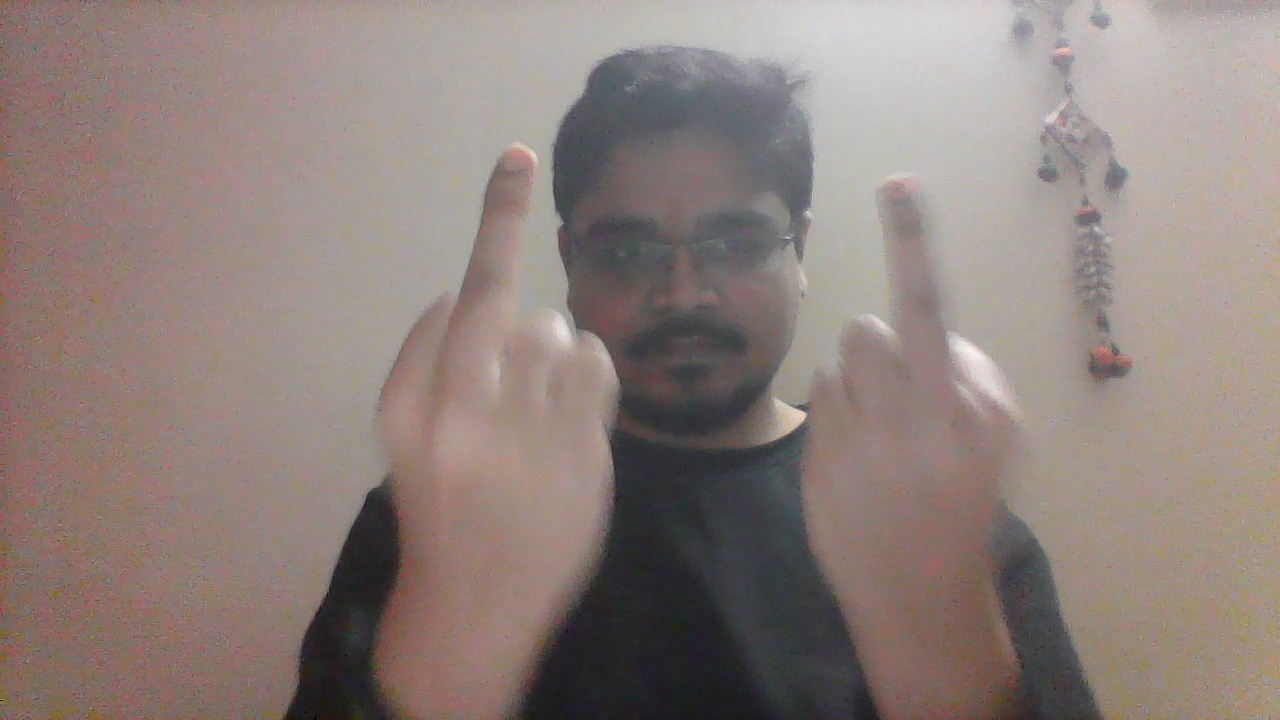Fuck Off: (372, 139, 623, 709)
